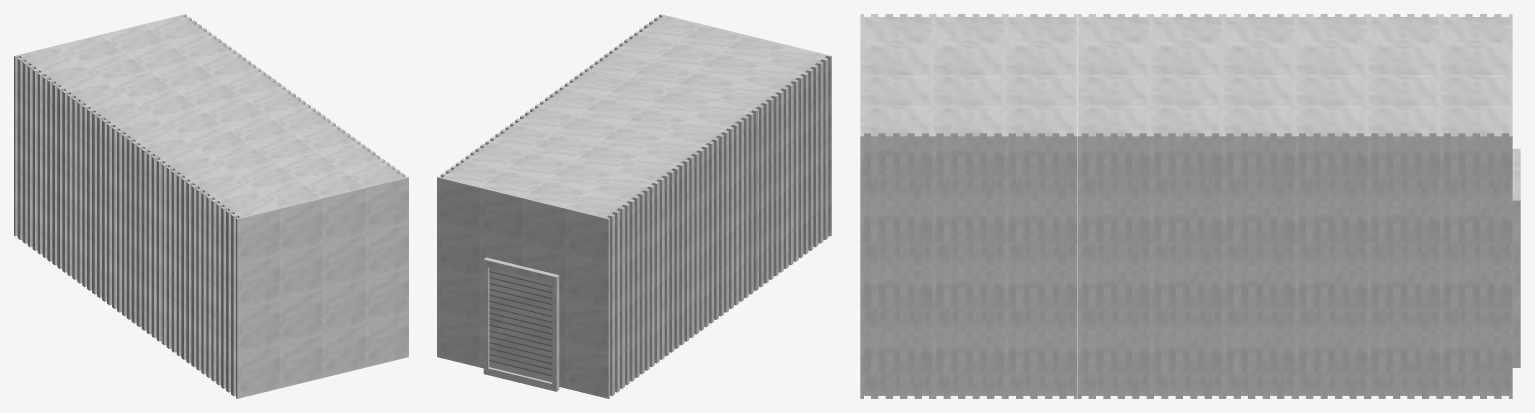
Rendered from TempControl.fbx.
The picture shows the model from 3 angles, left to right: view 1: azimuth 30°, elevation 25°; view 2: azimuth 150°, elevation 25°; view 3: azimuth 270°, elevation 25°; orthographic projection. The views are drawn at different scales.
Parts seen in each view (by area): view 1: node_id9 (×2), node_id6; view 2: node_id6 (×2), node_id9 (×2); view 3: node_id6, node_id9 (×2).
Part boxes in pixels (x1,y1,x2,y2): node_id9 (×2): (163,123,408,398); node_id6: (14,14,333,344); node_id6 (×2): (437,68,757,398); node_id9 (×2): (586,14,831,289); node_id6: (1078,14,1520,398); node_id9 (×2): (860,14,1077,398).
Bounding box in the file's own units: 0.5039 × 0.512 × 1.15.
Materials: 4 (4 with a texture image).
